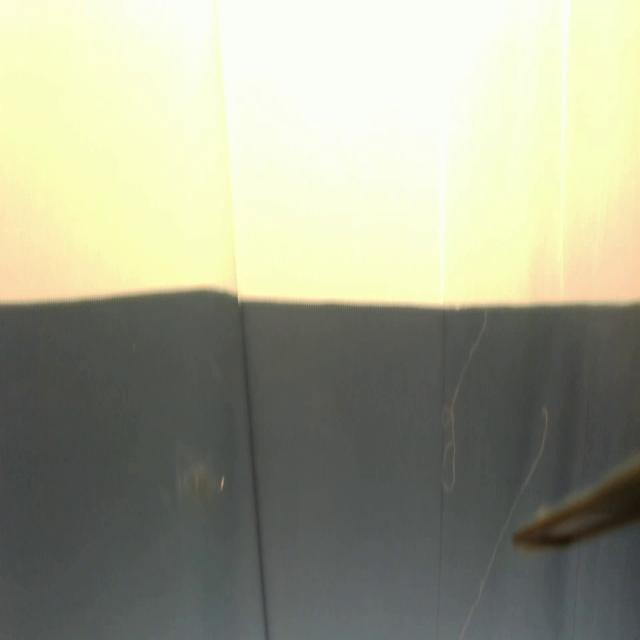crease: (234, 249, 270, 640), (431, 310, 449, 639)
